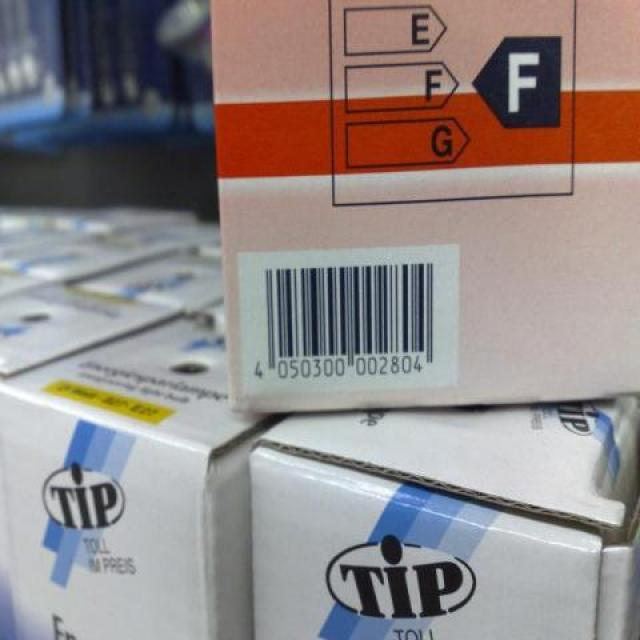Barcode: (236, 242, 463, 394)
